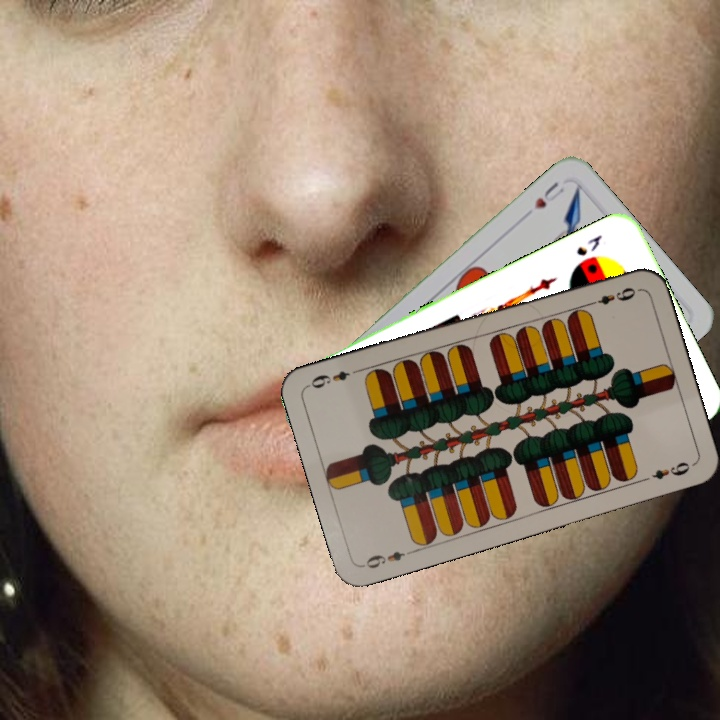E9: (583, 283, 641, 309), (359, 546, 417, 571)
HU: (530, 177, 567, 212)
SK: (572, 230, 605, 259)
